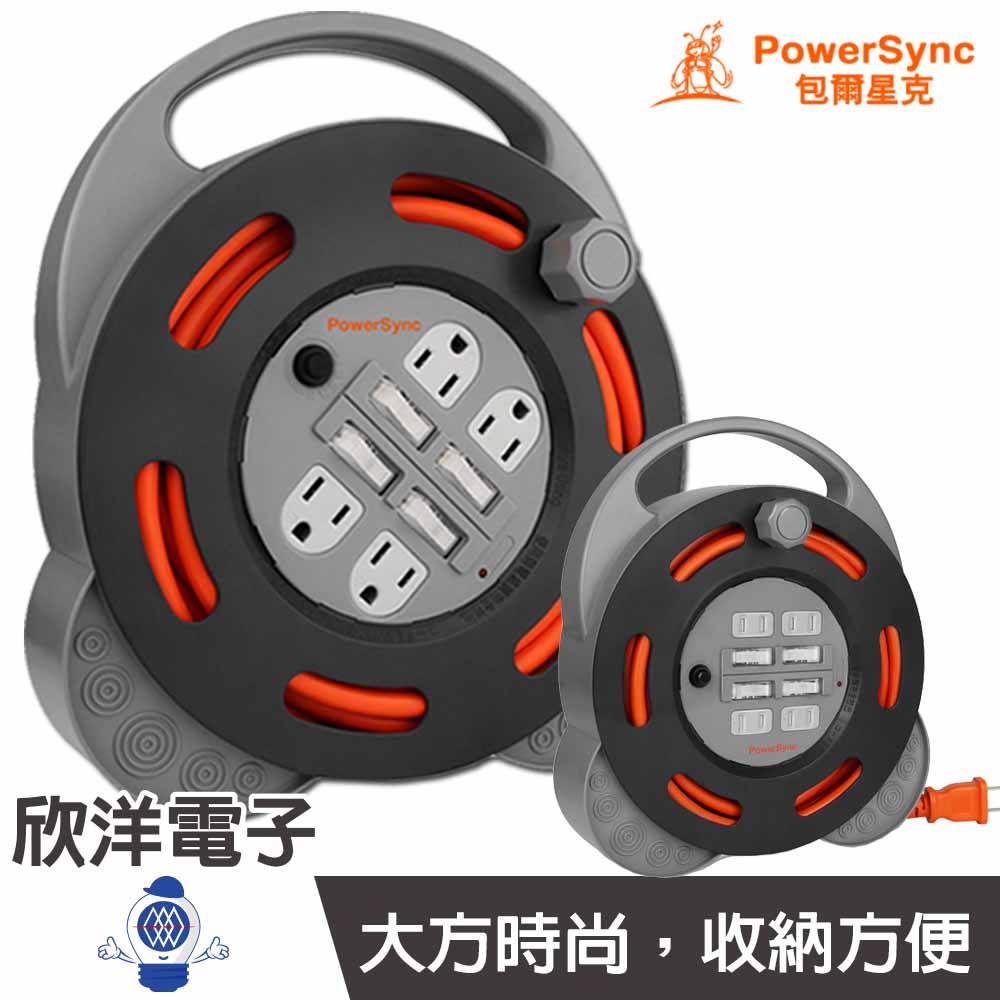socket: (33, 15, 691, 815), (568, 415, 932, 876)
